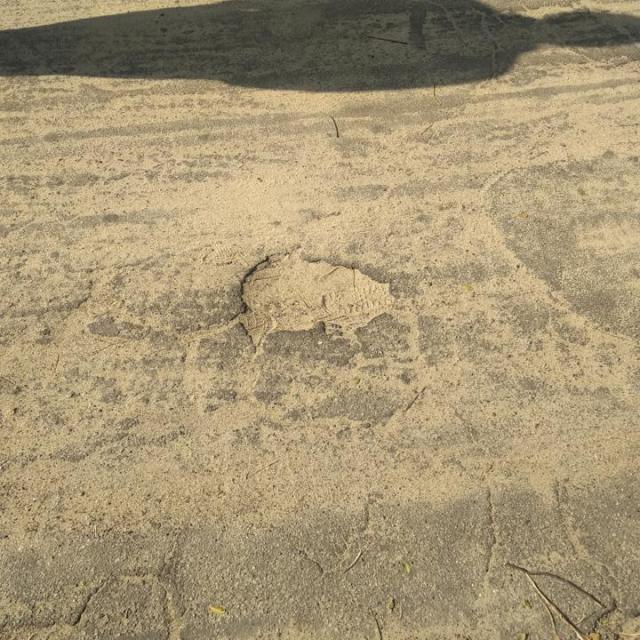Pothole: (232, 245, 399, 354)
